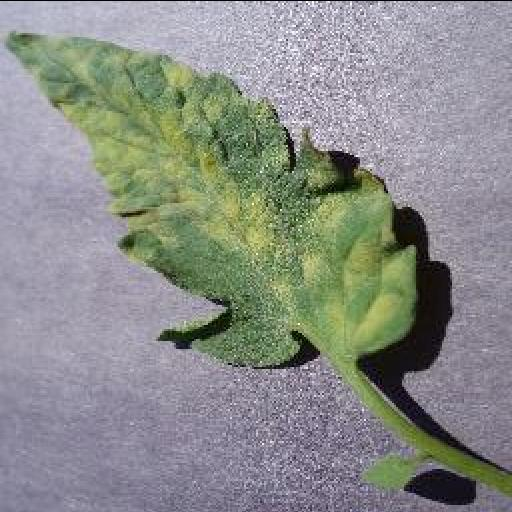disease_tomato: (2, 30, 416, 368)
